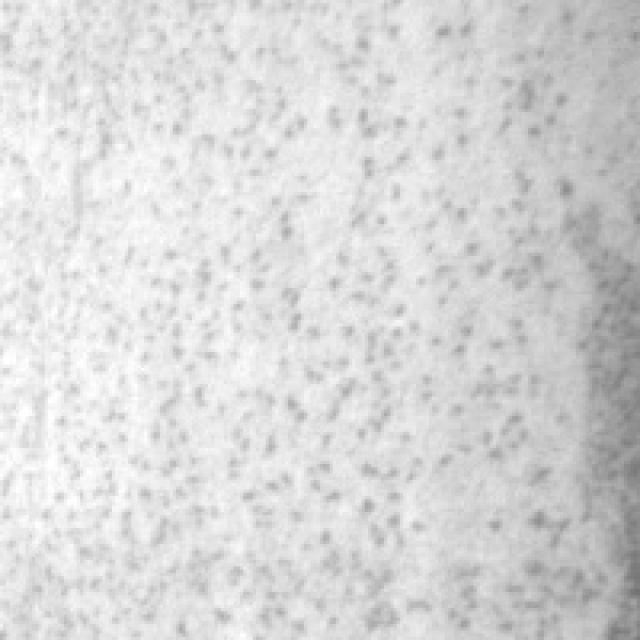pitted_surface: (10, 0, 582, 637), (541, 170, 637, 634)
